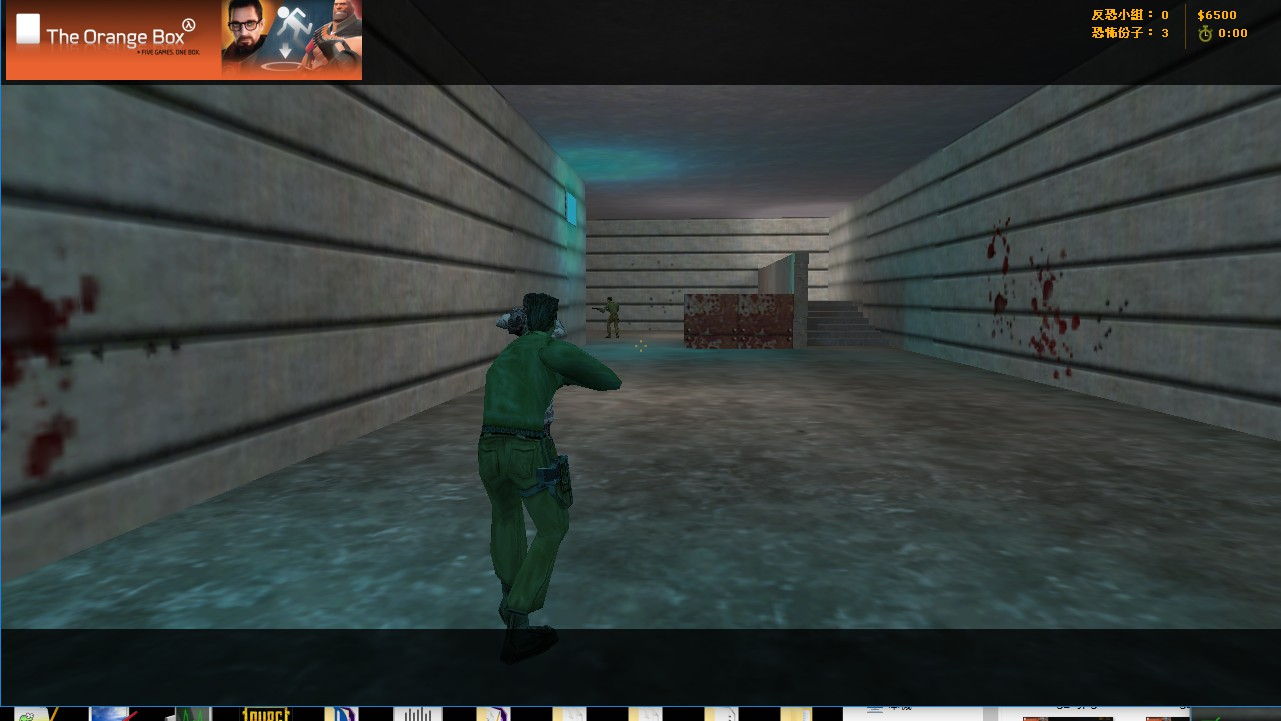person: (474, 291, 588, 629), (599, 291, 627, 347)
